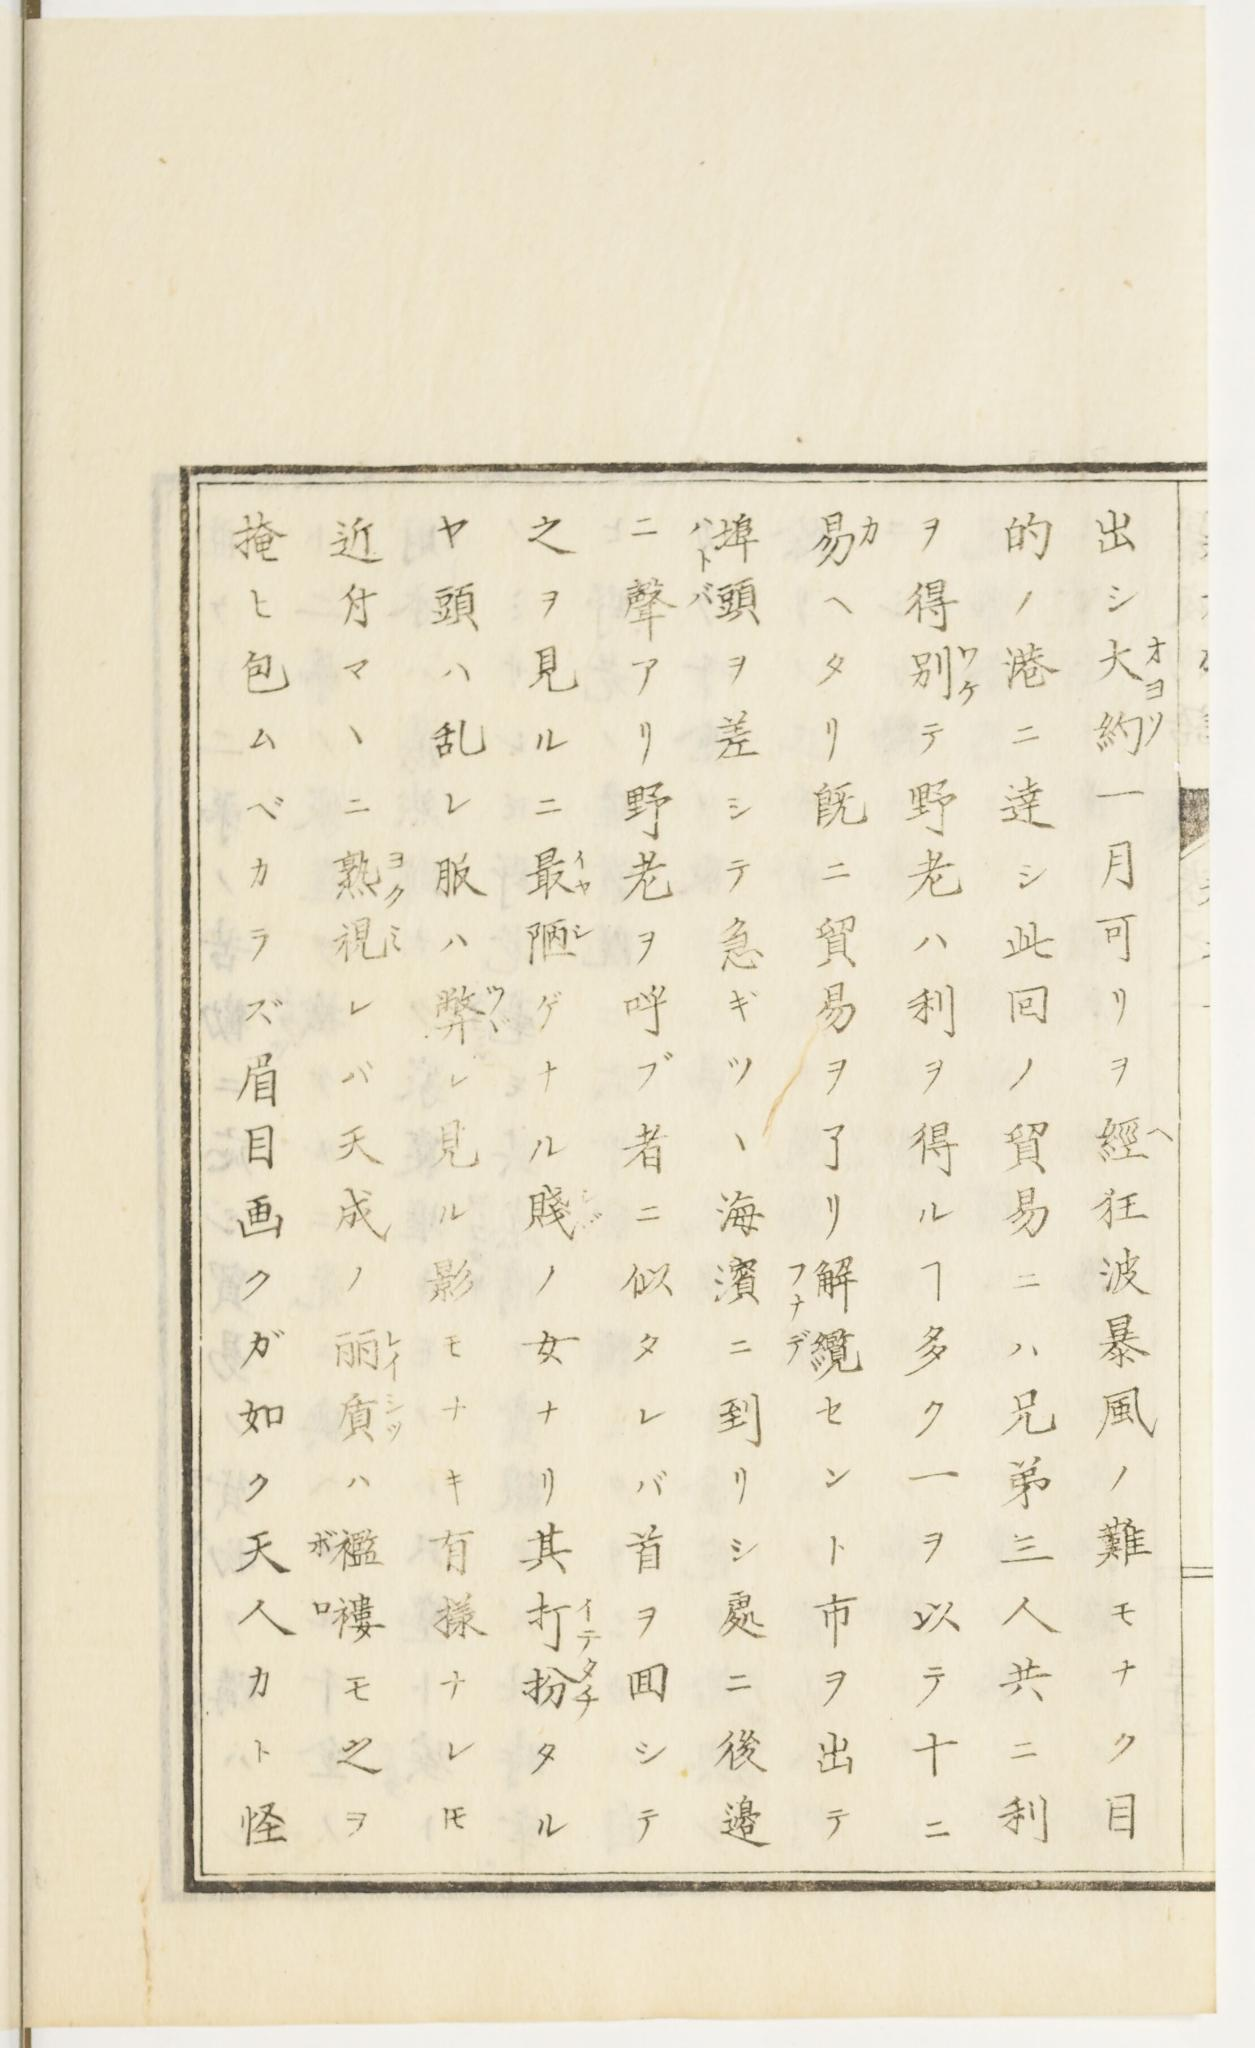MainZone-Character: (325, 843, 414, 911), (907, 639, 989, 711), (521, 1178, 606, 1246), (521, 1589, 606, 1656), (519, 1654, 608, 1717), (1091, 632, 1172, 701), (806, 506, 888, 573), (429, 979, 506, 1049), (333, 1324, 415, 1388), (332, 1390, 414, 1451), (522, 838, 600, 903), (1094, 1109, 1176, 1169), (1085, 707, 1164, 761), (328, 913, 407, 967)
MainZone-Ruby: (952, 639, 981, 708), (572, 1596, 604, 1652), (572, 1657, 601, 1713), (484, 985, 510, 1046), (576, 1182, 607, 1232), (382, 1391, 408, 1447), (1145, 629, 1166, 698), (385, 847, 408, 907), (380, 1325, 404, 1379), (572, 843, 594, 900), (1145, 707, 1169, 753), (1145, 1119, 1177, 1151), (859, 508, 881, 549), (389, 922, 408, 963)
